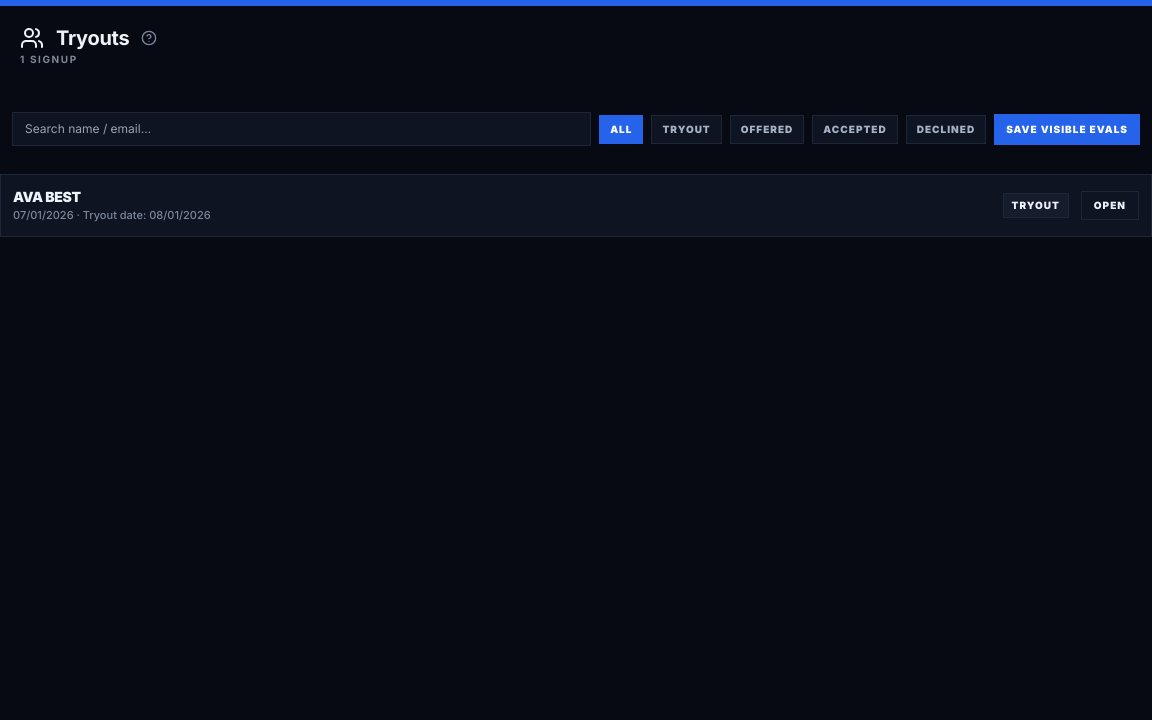
Test case: TryoutsTab › shows every coach's saved eval on the card — station reads transfer to the whole staff
The image size is (1152, 720).
Click the button "Open": (1110, 205) [1081,191,1139,220]
(page scrolled)
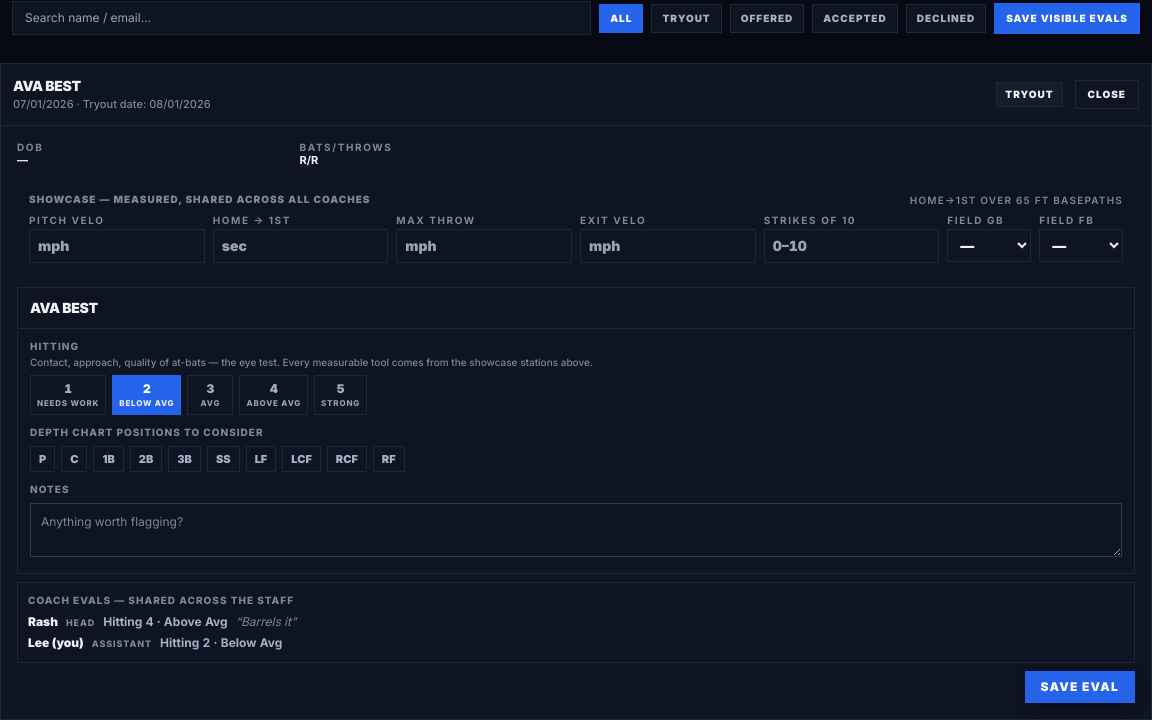
Expected: the text "Coach evals — shared across the staff" is shown, [28,594,294,606]
Expected: the text "Rash" is shown, [28,614,58,630]
Expected: the text "Lee (you)" is shown, [28,635,84,651]
